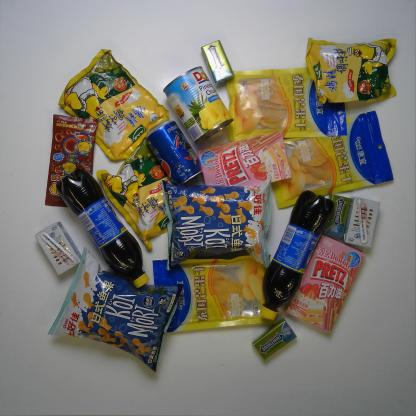Candy: (38, 104, 106, 209)
Canned Food: (161, 62, 237, 146)
Dessert: (284, 236, 374, 341), (196, 125, 298, 194)
Dried Fruit: (269, 108, 402, 210), (142, 249, 278, 332), (225, 55, 350, 140)
Drink: (54, 164, 154, 292), (256, 184, 334, 324), (146, 124, 206, 189)
Gum: (248, 316, 301, 374), (198, 41, 236, 84), (322, 193, 351, 240)
Milk: (30, 218, 86, 274), (343, 193, 386, 251)
Puffed Food: (35, 242, 189, 380), (158, 181, 280, 272)
Seasoner: (64, 42, 178, 158), (300, 32, 409, 112), (100, 146, 180, 250)
